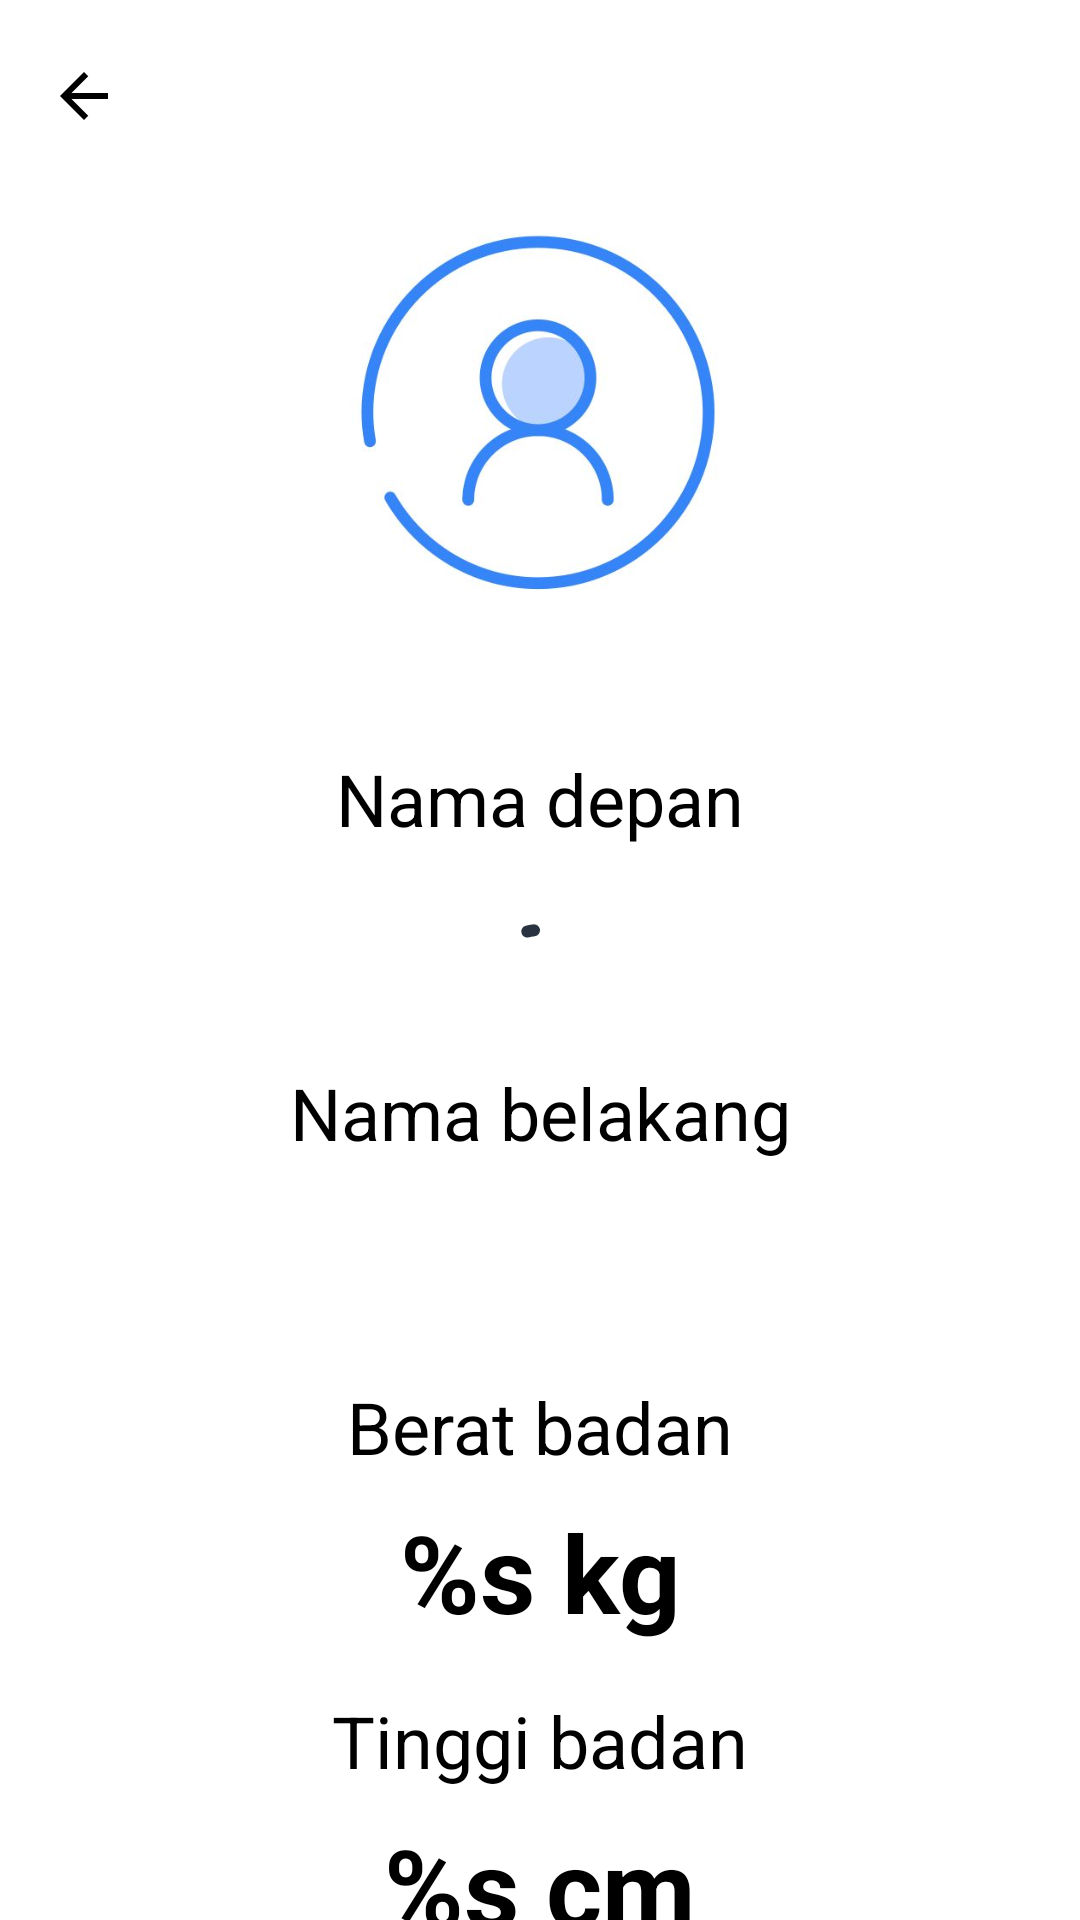

Named icons in this screenshot (1080 x 1920) and their bounding boxes, (x1, y1, x2, y2):
user photo: (361, 235, 715, 590)
